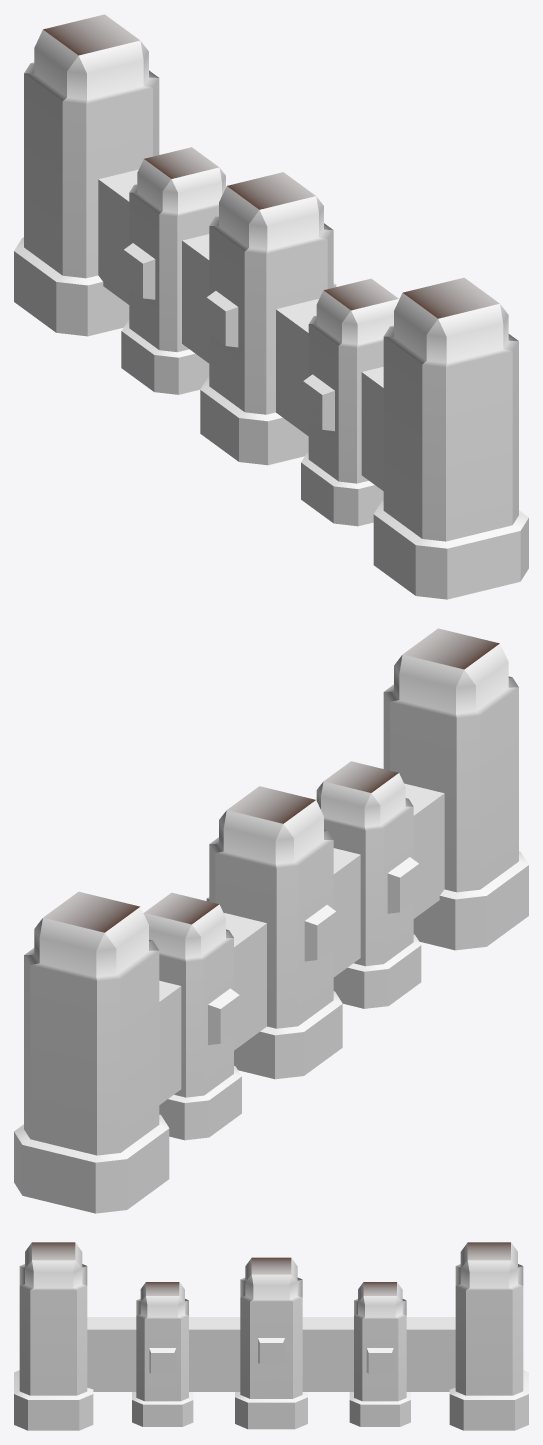
File: Wall_Lv12_2.fbx
3 renders of one model, top to bottom at view 1: azimuth 30°, elevation 25°; view 2: azimuth 150°, elevation 25°; view 3: azimuth 270°, elevation 25°, orthographic. The views are drawn at different scales.
Parts seen in each view (by area): view 1: Wall; view 2: Wall; view 3: Wall.
Part boxes in pixels (left/top/right/bottom): Wall: left=14, top=14, right=528, bottom=599; Wall: left=14, top=628, right=528, bottom=1213; Wall: left=14, top=1242, right=528, bottom=1430.
Size of the model in its own units: 0.2422 by 0.5491 by 1.57.
